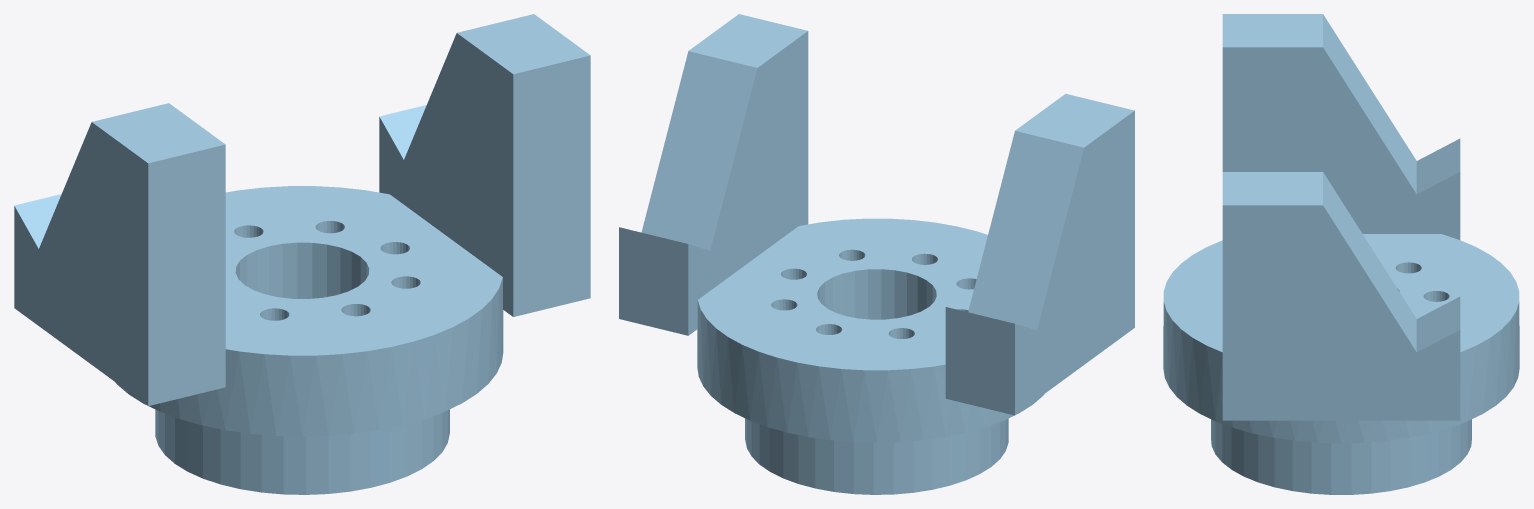
Rendered from wouldchuckit_Maslow4_Crosshairs_for_centering.glb.
3 renders of one model, left to right at view 1: azimuth 30°, elevation 25°; view 2: azimuth 150°, elevation 25°; view 3: azimuth 270°, elevation 25°, orthographic. The views are drawn at different scales.
Visible parts, largest first — view 1: part-1, part-3, part-2, part-0; view 2: part-1, part-3, part-2, part-0; view 3: part-2, part-3, part-1, part-0.
Boxes of the visible parts, x1=… form: part-1: x1=115, y1=186, x2=503, y2=436; part-3: x1=14, y1=103, x2=225, y2=405; part-2: x1=379, y1=14, x2=590, y2=316; part-0: x1=155, y1=409, x2=449, y2=494; part-1: x1=697, y1=218, x2=1044, y2=442; part-3: x1=945, y1=93, x2=1134, y2=415; part-2: x1=619, y1=14, x2=808, y2=335; part-0: x1=745, y1=418, x2=1008, y2=494; part-2: x1=1222, y1=172, x2=1460, y2=420; part-3: x1=1222, y1=14, x2=1460, y2=239; part-1: x1=1163, y1=234, x2=1519, y2=443; part-0: x1=1211, y1=419, x2=1471, y2=494.
Bounding box in the file's own units: 57.2 × 46 × 45.
